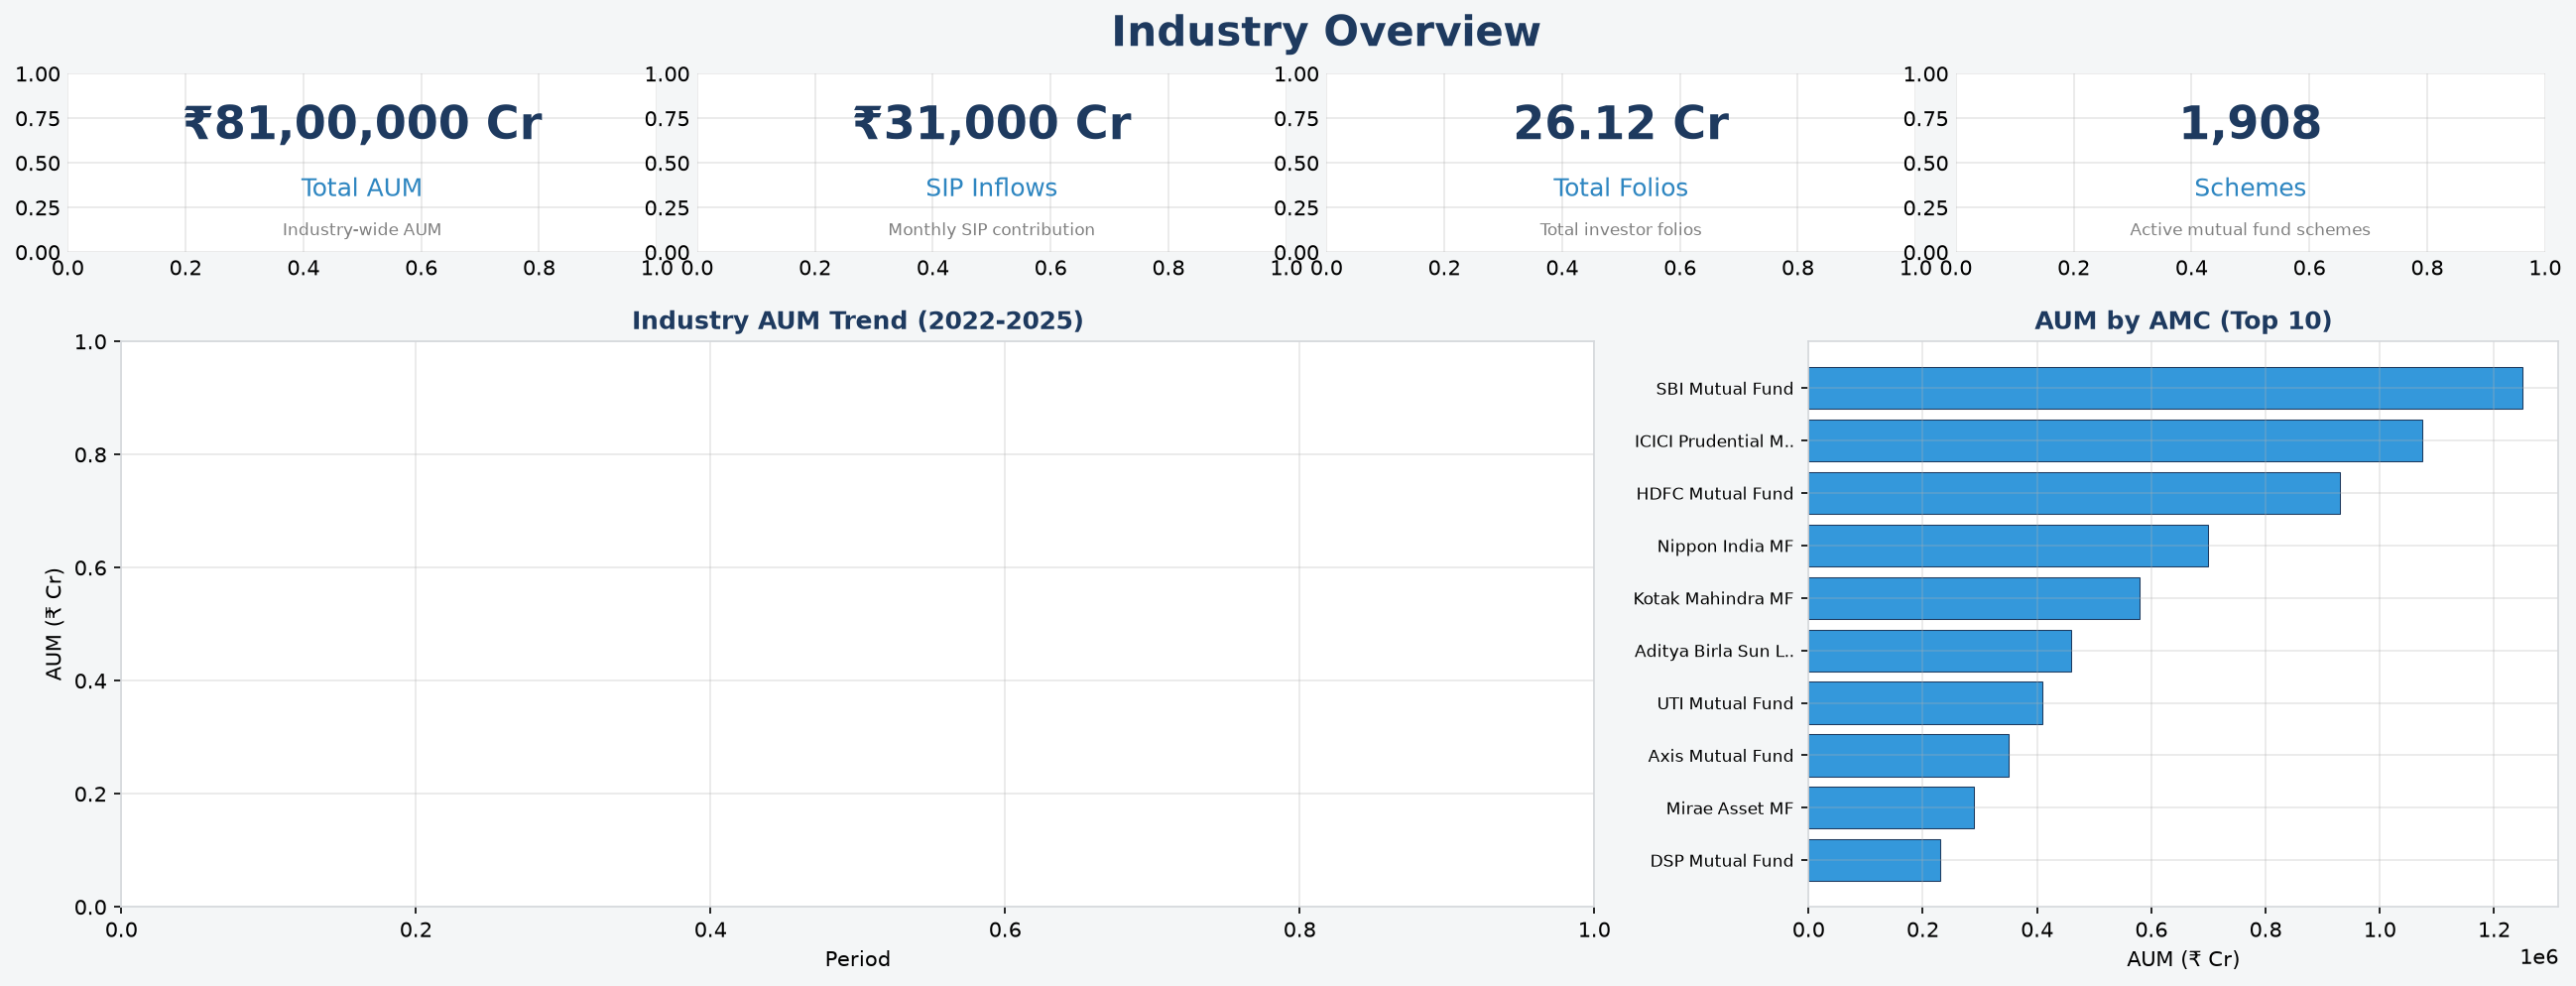

This screenshot's page, from the dashboard's own definition file:
{"tool":"powerbi","page":{"name":"Industry Overview","canvas":[1280,720],"ordinal":0},"visuals":[{"type":"cardVisual","fields":{"Data":["fact_aum.Total_AUM_Cr"]},"box":[10,0,280,280],"z":0},{"type":"cardVisual","fields":{"Data":["fact_aum.SIP_Inflows_Cr"]},"box":[19,280,280,280],"z":1000},{"type":"cardVisual","fields":{"Data":["fact_aum.Total_Folios"]},"box":[516,369,280,280],"z":2000},{"type":"cardVisual","fields":{"Data":["fact_aum.Total_Schemes"]},"box":[1000,360,280,280],"z":3000},{"type":"areaChart","fields":{"Y":["fact_aum.Total_AUM_Cr"],"Category":["dim_date.year_month"]},"box":[159,31,390,444],"z":4000},{"type":"barChart","fields":{"Category":["dim_fund.fund_house"],"Y":["fact_aum.Total_AUM_Cr"]},"box":[640,20,593,431],"z":5000}]}

Visuals, with their boxes on the page's 1280x720 design canvas (x1, y1, x2, y2). These are canvas units, not pixel positions in the 2576x986 screenshot, which may show the page scaled, cropped or inside an application window:
cardVisual - fact_aum.Total_AUM_Cr: select_region(10, 0, 290, 280)
cardVisual - fact_aum.SIP_Inflows_Cr: select_region(19, 280, 299, 560)
cardVisual - fact_aum.Total_Folios: select_region(516, 369, 796, 649)
cardVisual - fact_aum.Total_Schemes: select_region(1000, 360, 1280, 640)
areaChart - fact_aum.Total_AUM_Cr x dim_date.year_month: select_region(159, 31, 549, 475)
barChart - dim_fund.fund_house x fact_aum.Total_AUM_Cr: select_region(640, 20, 1233, 451)
